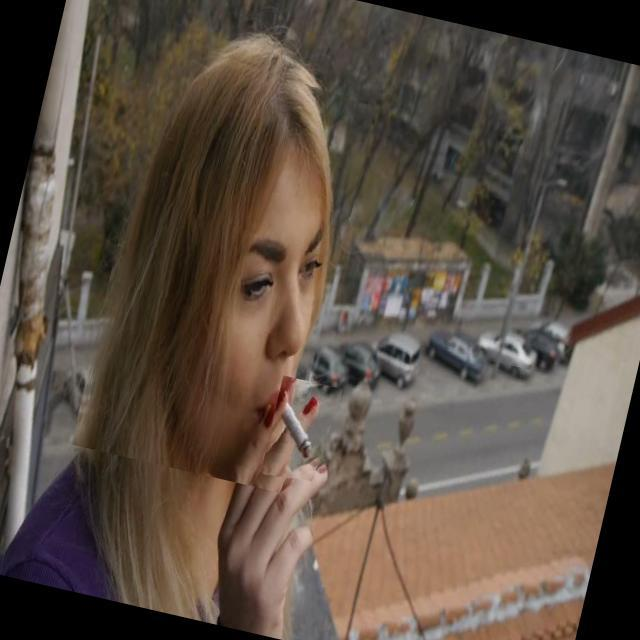cigarette: (260, 375, 343, 488)
